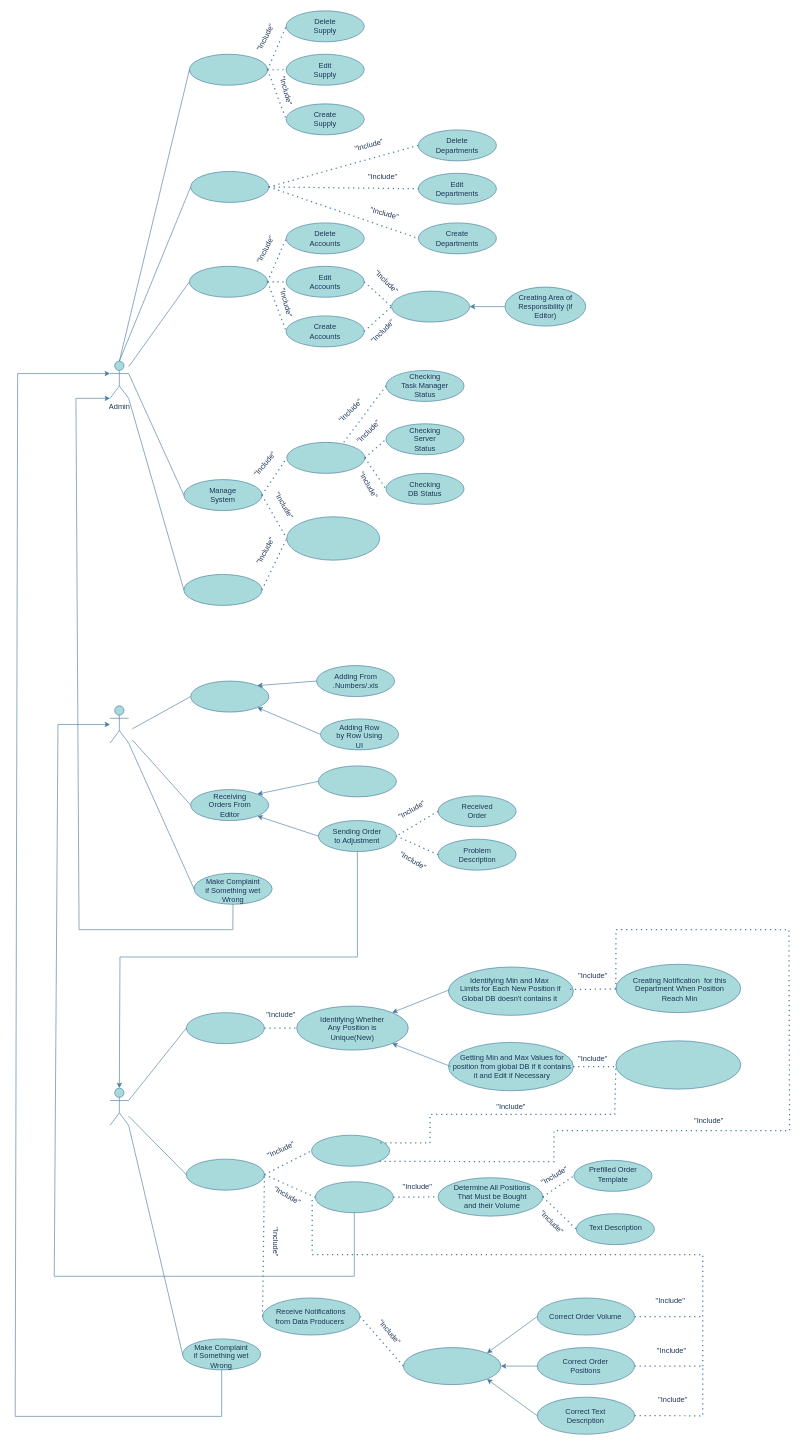
The diagram is 802 pixels wide and 1445 high, and some of its shapes have lost their labels. Each missing label, with the centre of its shape:
Adding Data: pixel 229 696
Checking Status: pixel 325 457
Choosing Role: pixel 430 306
Create and Edit Notifications for self: pixel 350 1150
Data Producer: pixel 119 724
Edit Notification for this Department if Necessary: pixel 678 1064
Editor: pixel 119 1106
Familiarization With The Problem: pixel 452 1366
Making Order: pixel 357 781
Manage Accounts: pixel 228 281
Manage Departments: pixel 229 186
Manage Supply: pixel 228 69
Notifying SysAdmins in Case of Trouble: pixel 333 538
Processing Data: pixel 225 1028
Receiving User Complaints: pixel 222 589
Send Notifications for Data Producers: pixel 354 1197
Working With Notifications: pixel 225 1174
